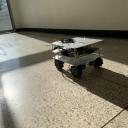cart: (51, 37, 104, 78)
